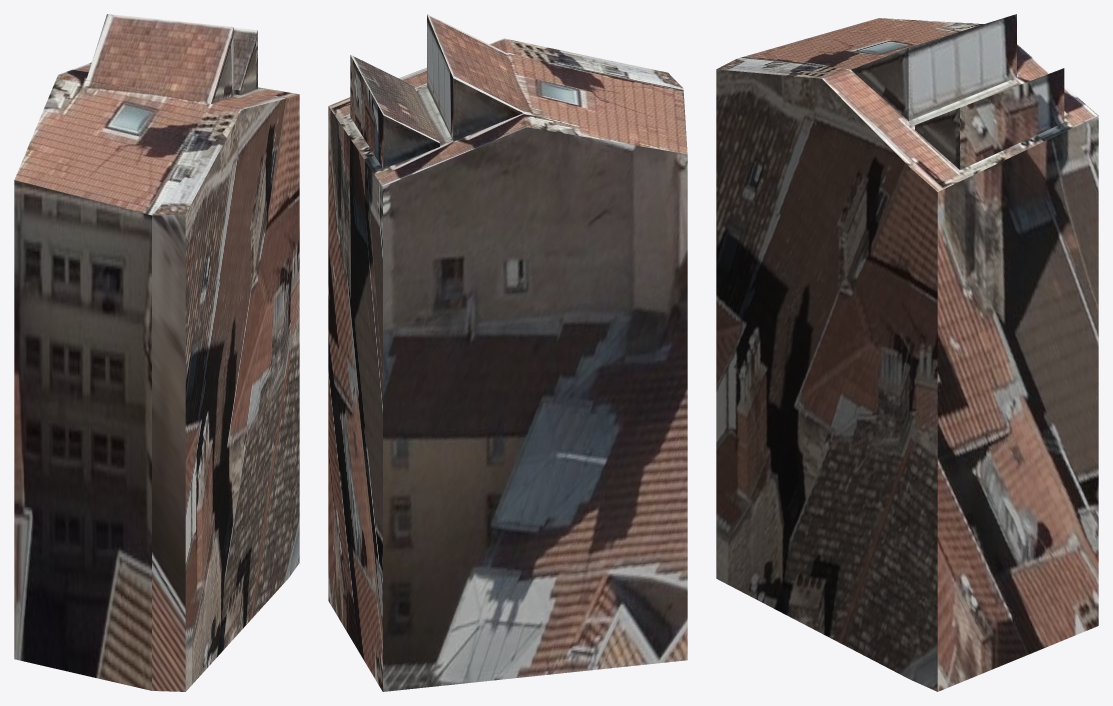
The picture shows the model from 3 angles, left to right: view 1: azimuth 30°, elevation 25°; view 2: azimuth 150°, elevation 25°; view 3: azimuth 270°, elevation 25°; orthographic projection. The views are drawn at different scales.
Visible parts, largest first — view 1: Z_UP; view 2: Z_UP; view 3: Z_UP.
Boxes of the visible parts, left/top/right/bottom form: Z_UP: left=14, top=14, right=299, bottom=691; Z_UP: left=328, top=14, right=687, bottom=691; Z_UP: left=716, top=14, right=1098, bottom=691.
Bounding box in the file's own units: 12.68 × 21.89 × 12.59.
2 materials, 1 textured.
